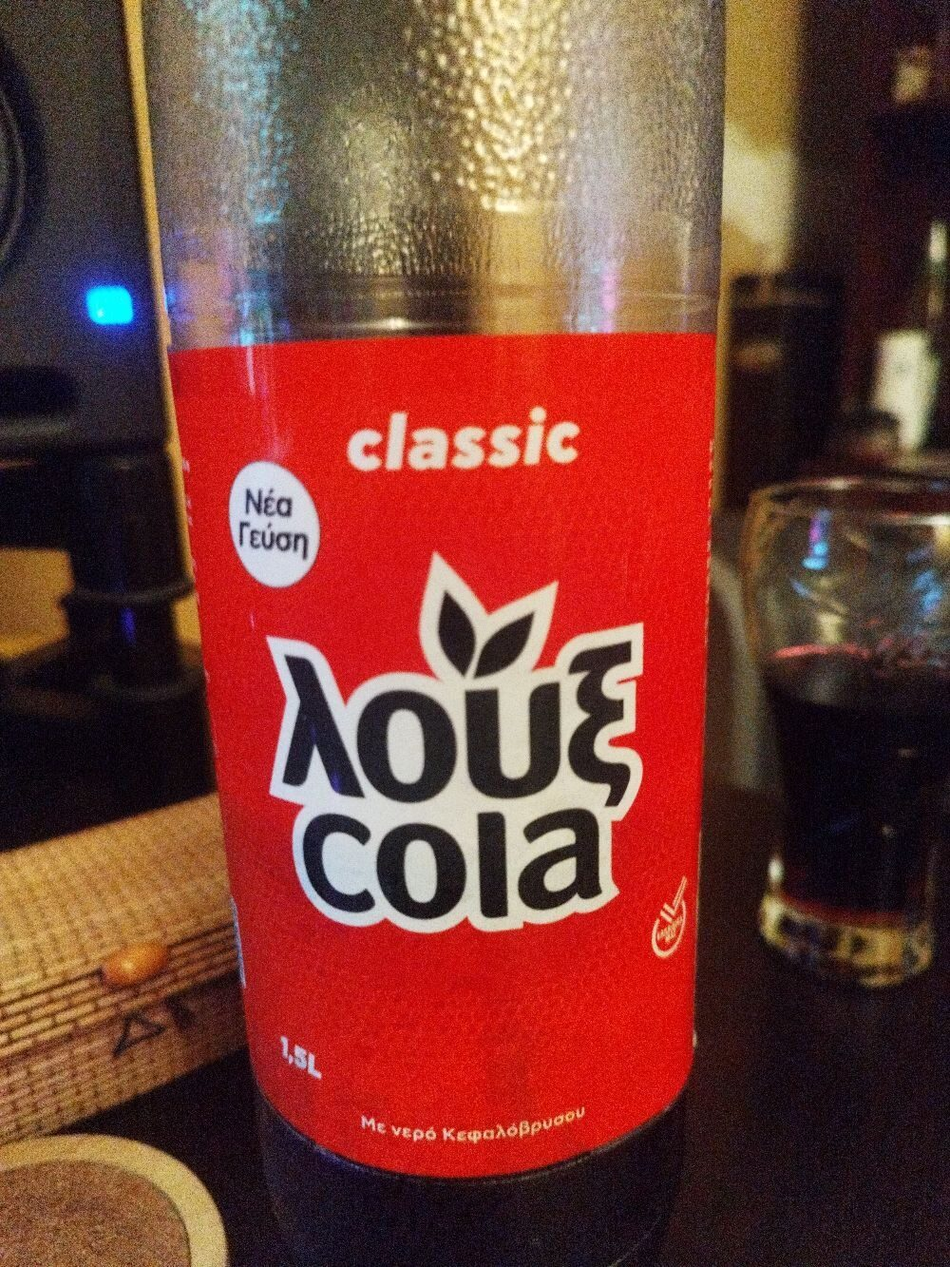Lux Soap: (71, 95, 879, 1172)
